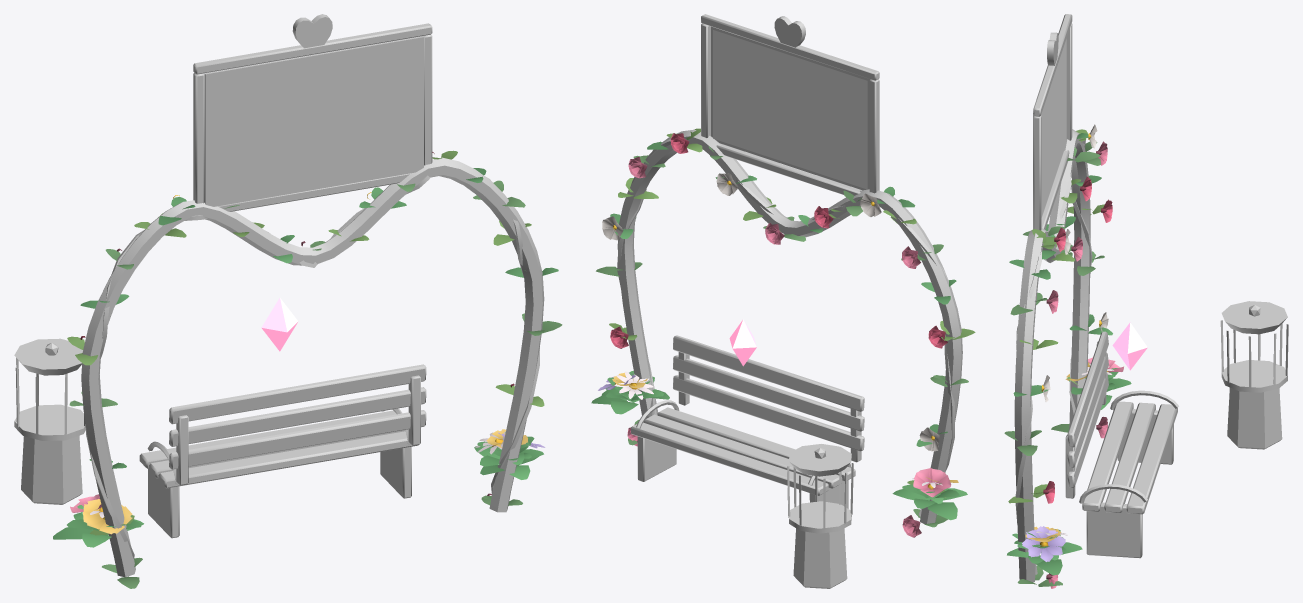
File: zon_diaryring_heart.glb
The picture shows the model from 3 angles, left to right: view 1: azimuth 30°, elevation 25°; view 2: azimuth 150°, elevation 25°; view 3: azimuth 270°, elevation 25°; orthographic projection. The views are drawn at different scales.
Parts seen in each view (by area): view 1: SM_zon_diaryring_heart_kit_diaryring_heart_xm1_z0, SM_zon_diaryring_heart_vc_palette_xm1_z0, ANIM_bld_heart_marker__0; view 2: SM_zon_diaryring_heart_kit_diaryring_heart_xm1_z0, SCREEN_heart_heart__0, SM_zon_diaryring_heart_vc_palette_xm1_z0, ANIM_bld_heart_marker__0; view 3: SM_zon_diaryring_heart_kit_diaryring_heart_xm1_z0, SM_zon_diaryring_heart_vc_palette_xm1_z0, SCREEN_heart_heart__0, ANIM_bld_heart_marker__0.
Boxes of the visible parts, x1,y1,x2,y2 form: SM_zon_diaryring_heart_kit_diaryring_heart_xm1_z0: (14,14,544,577); SM_zon_diaryring_heart_vc_palette_xm1_z0: (53,150,562,588); ANIM_bld_heart_marker__0: (261,298,298,351); SM_zon_diaryring_heart_kit_diaryring_heart_xm1_z0: (617,14,962,588); SCREEN_heart_heart__0: (713,30,867,189); SM_zon_diaryring_heart_vc_palette_xm1_z0: (591,128,975,537); ANIM_bld_heart_marker__0: (729,319,756,366); SM_zon_diaryring_heart_kit_diaryring_heart_xm1_z0: (1014,14,1288,582); SM_zon_diaryring_heart_vc_palette_xm1_z0: (1004,124,1131,588); SCREEN_heart_heart__0: (1041,39,1066,217); ANIM_bld_heart_marker__0: (1112,322,1147,370).
Bounding box in the file's own units: 4.25 × 4.69 × 2.55.
